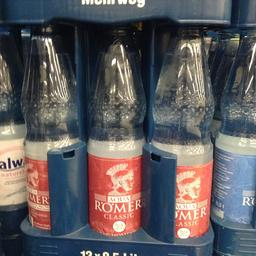water: (154, 20, 212, 234), (86, 24, 142, 237), (18, 25, 76, 230), (212, 26, 254, 222)
